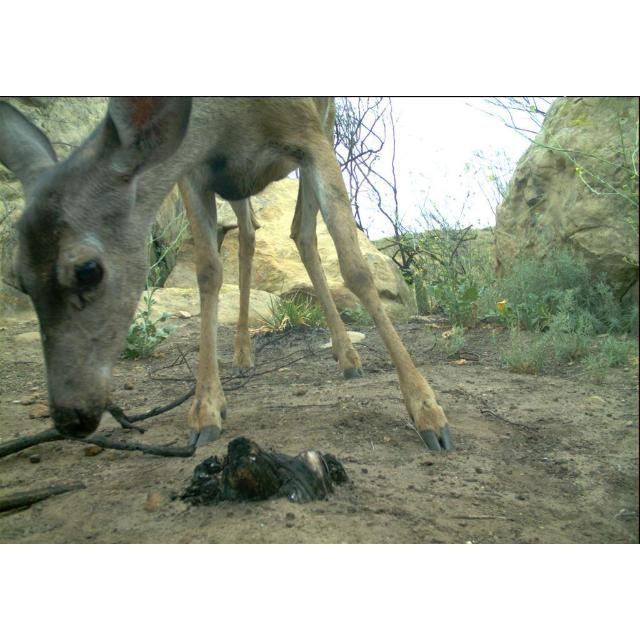animals: (1, 101, 463, 459)
